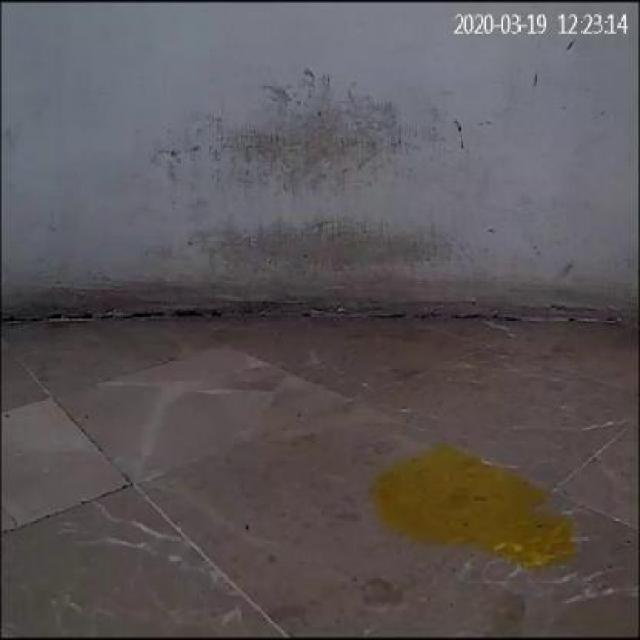spill: (366, 445, 582, 570)
